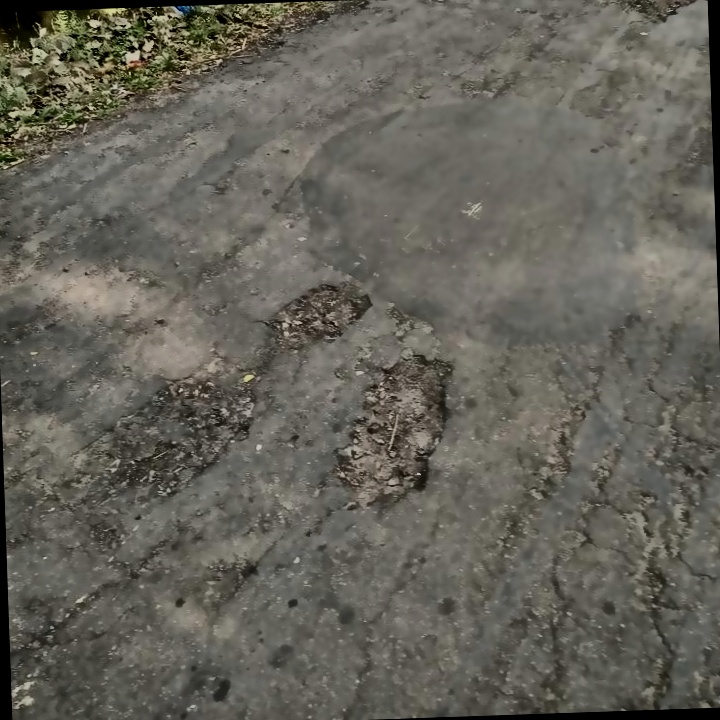pothole: (66, 354, 265, 503), (329, 347, 456, 515), (260, 279, 377, 358), (593, 0, 708, 26)
